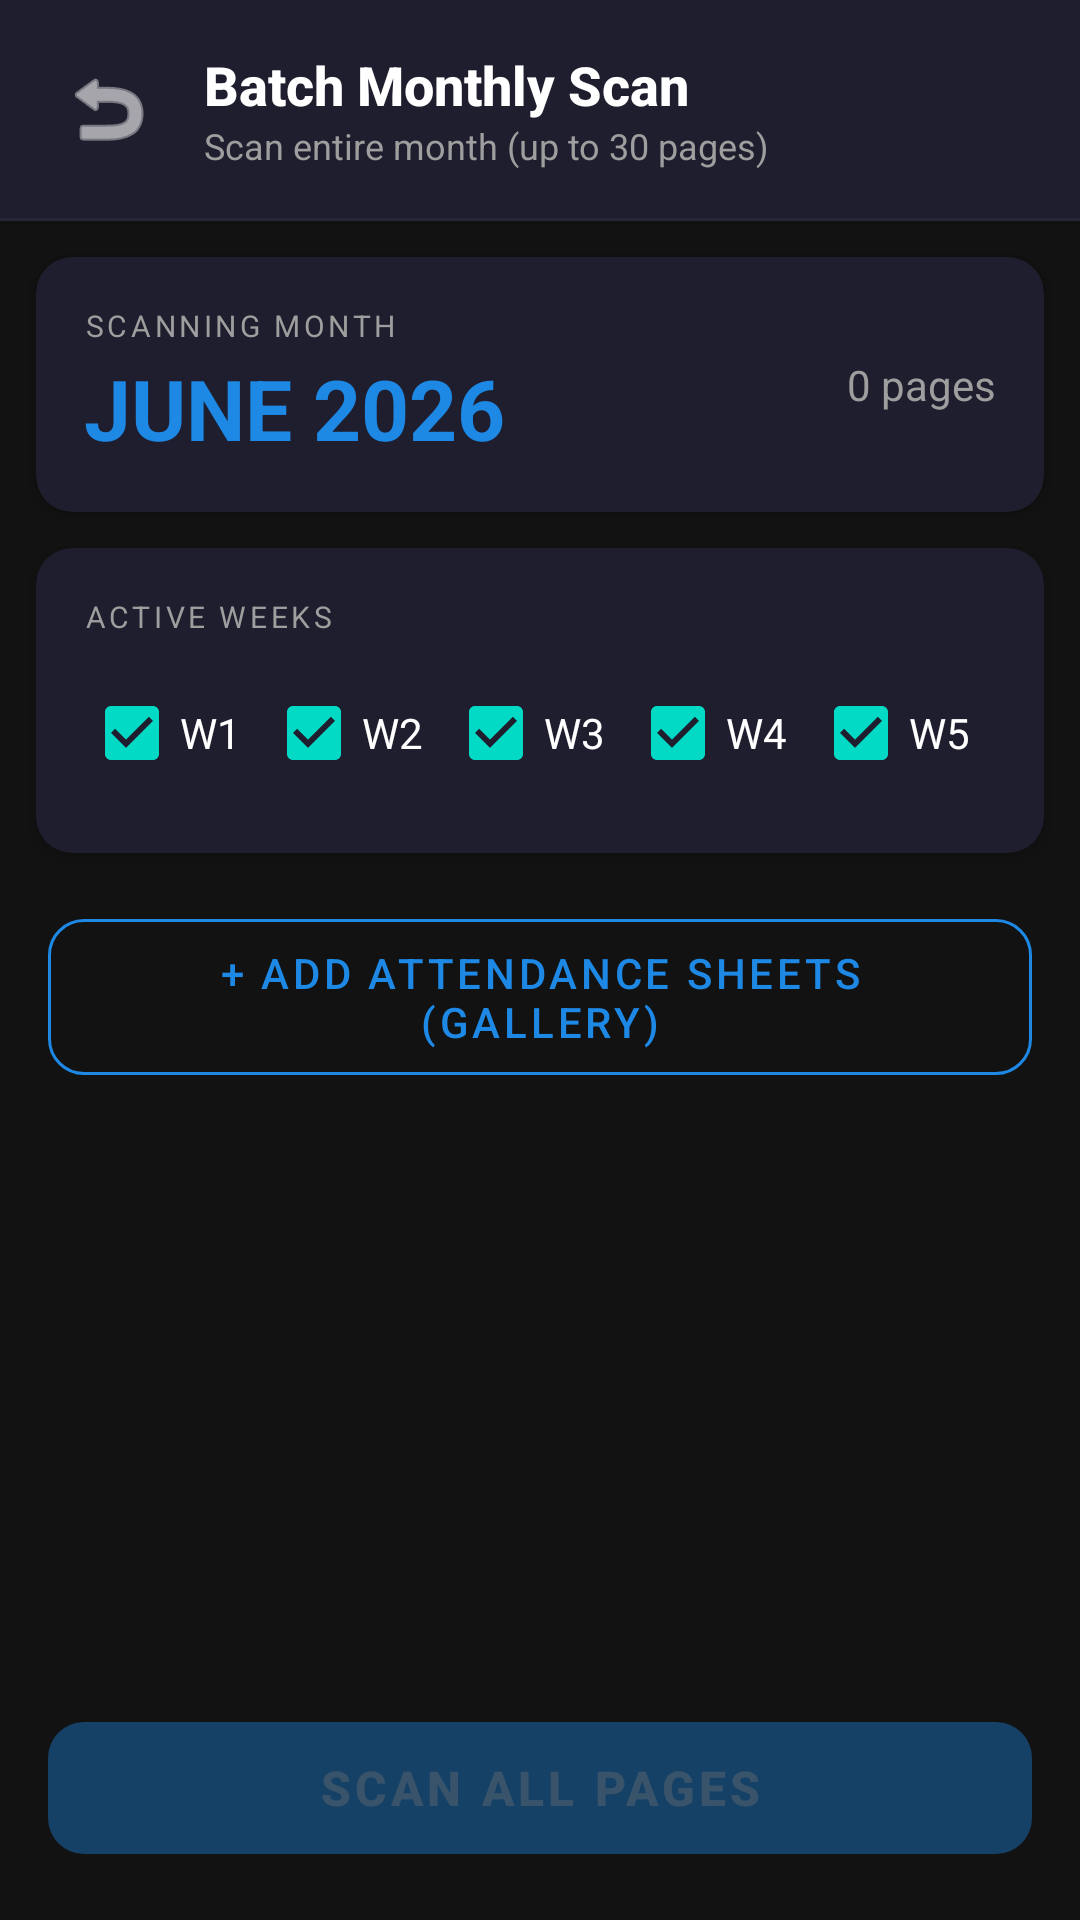

Where to tap for icons on this 1080w x 1920h app screen, as point (x, y):
Back: point (109, 109)
